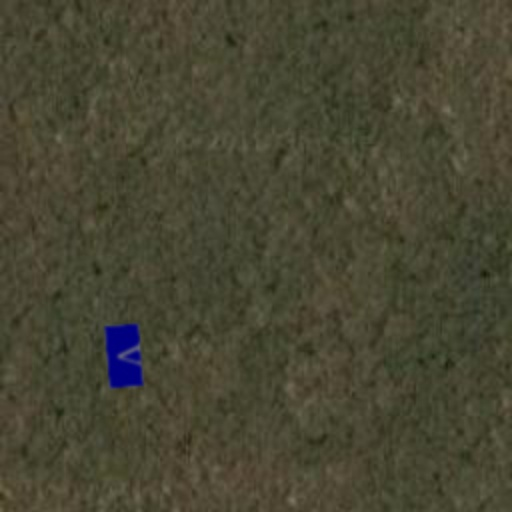rectangle: (90, 322, 158, 390)
